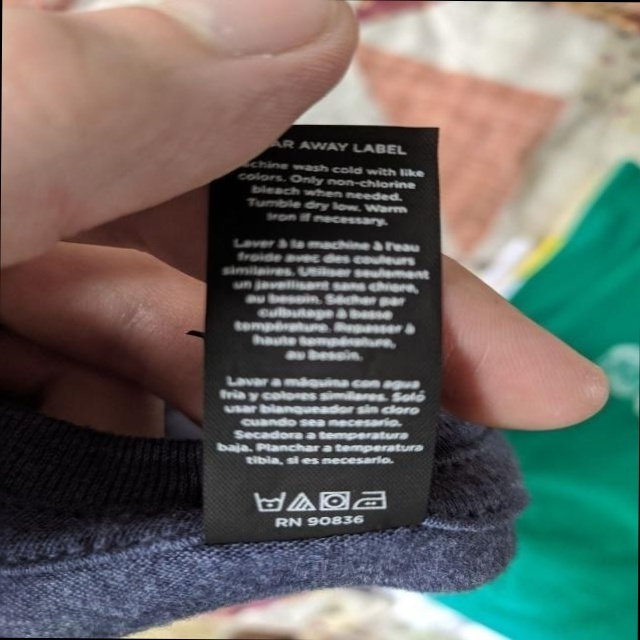30C: (255, 488, 286, 514)
iron_medium: (355, 489, 392, 515)
non_chlorine_bleach: (289, 492, 318, 514)
tumble_dry_low: (320, 490, 355, 515)
